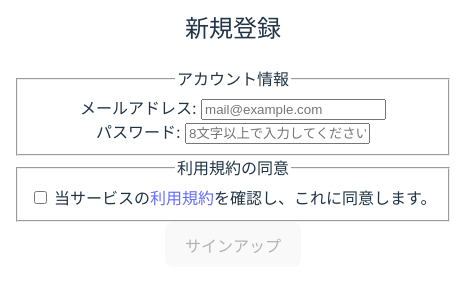
Test: 利用規約の同意でサインアップボタンが活性化するか
This screenshot has width=467, height=284.
Step 1. Click the checkbox → [40, 197], box [34,191,46,204]
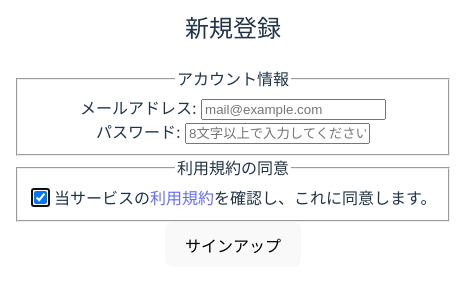
expect the button "サインアップ" is enabled: met, box [165,222,301,267]
